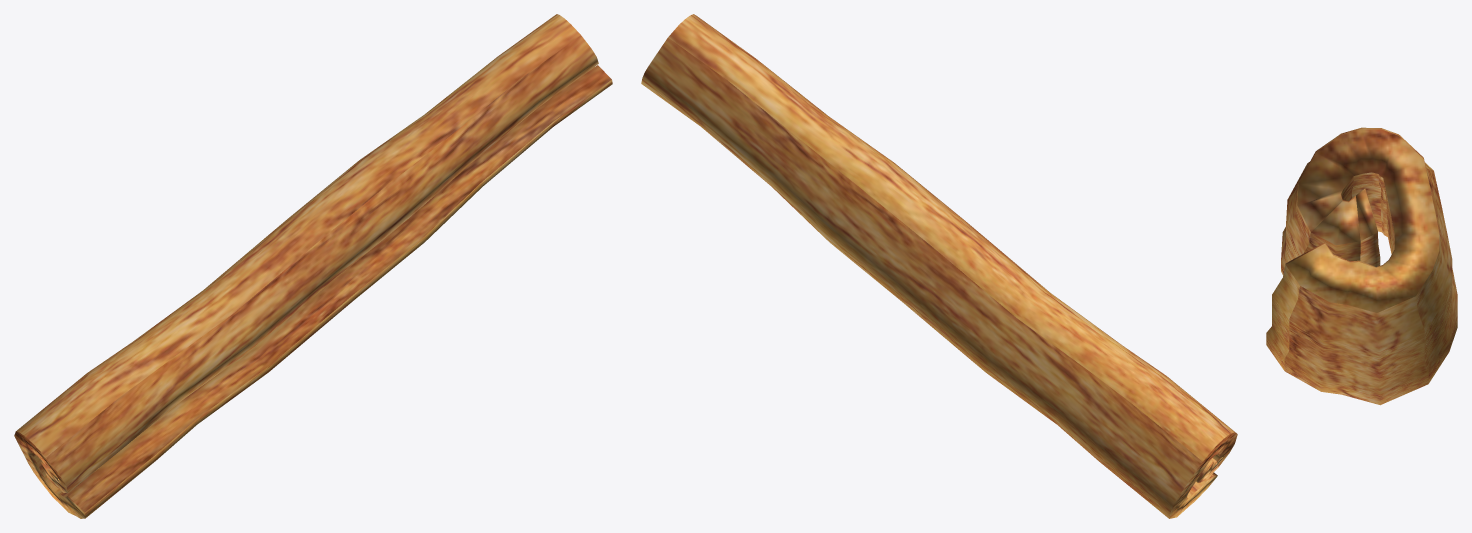
Rendered from kayu_manis.glb.
3 views of the same model, side by side, from view 1: azimuth 30°, elevation 25°; view 2: azimuth 150°, elevation 25°; view 3: azimuth 270°, elevation 25° (orthographic). The views are drawn at different scales.
Visible parts, largest first — view 1: Cube; view 2: Cube; view 3: Cube.
Part boxes in pixels (bbox=[...]): Cube: bbox=[14, 14, 612, 518]; Cube: bbox=[641, 14, 1237, 518]; Cube: bbox=[1266, 127, 1457, 405].
Bounding box in the file's own units: 0.4817 × 0.3012 × 0.0691.
Materials: 1 (1 with a texture image).
